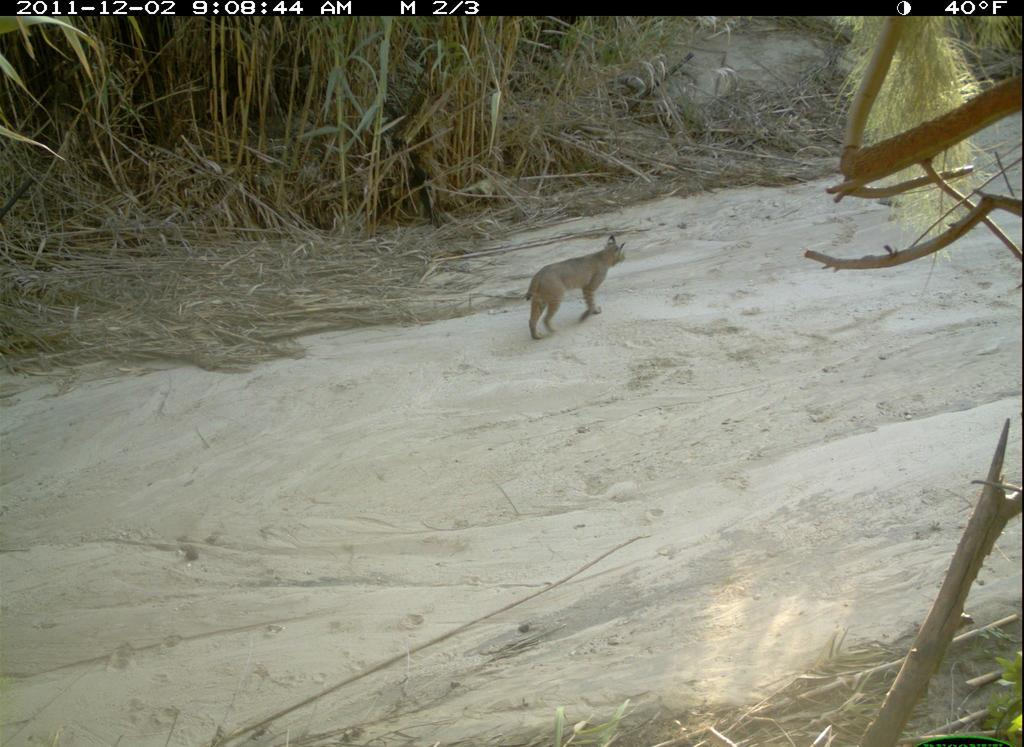bobcat: (524, 236, 629, 343)
